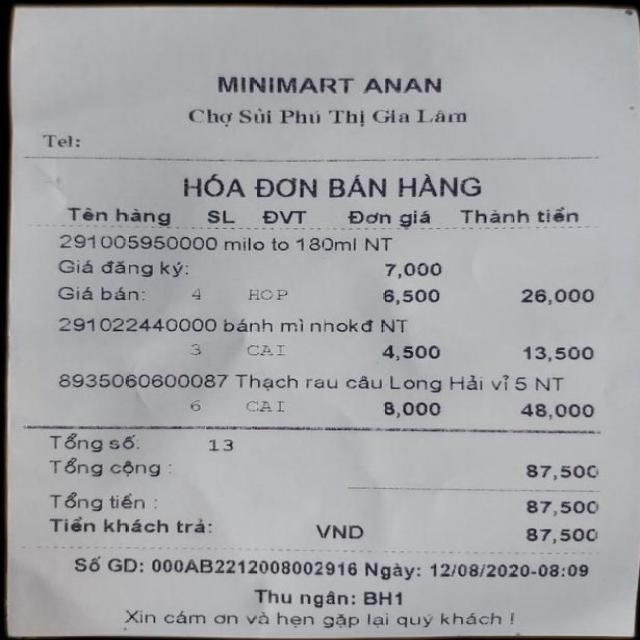Date: (428, 561, 531, 583)
Store_Name: (189, 46, 457, 109)
Total_Amount: (22, 453, 607, 491)
